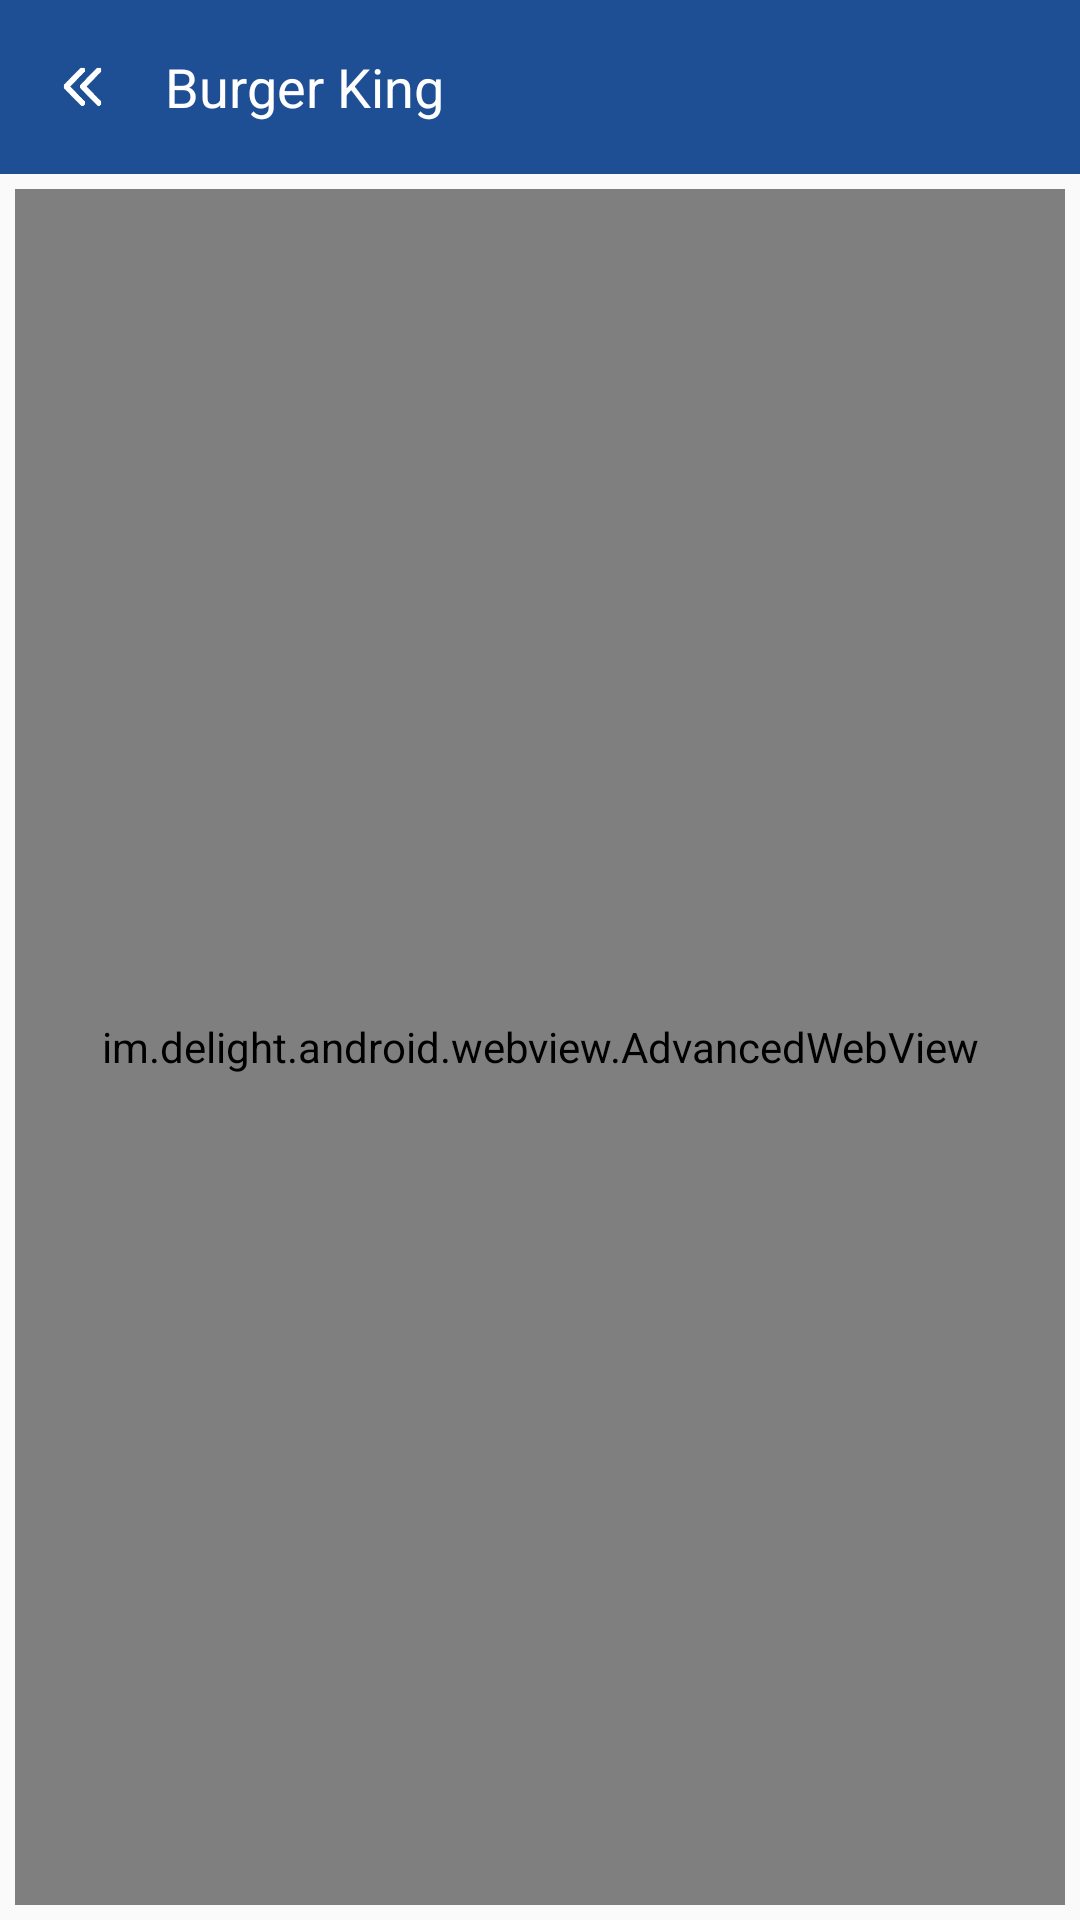

Screen size 1080px x 1920px. Icon name, then its center in pixels as [x,y]:
arrow: [82,87]
